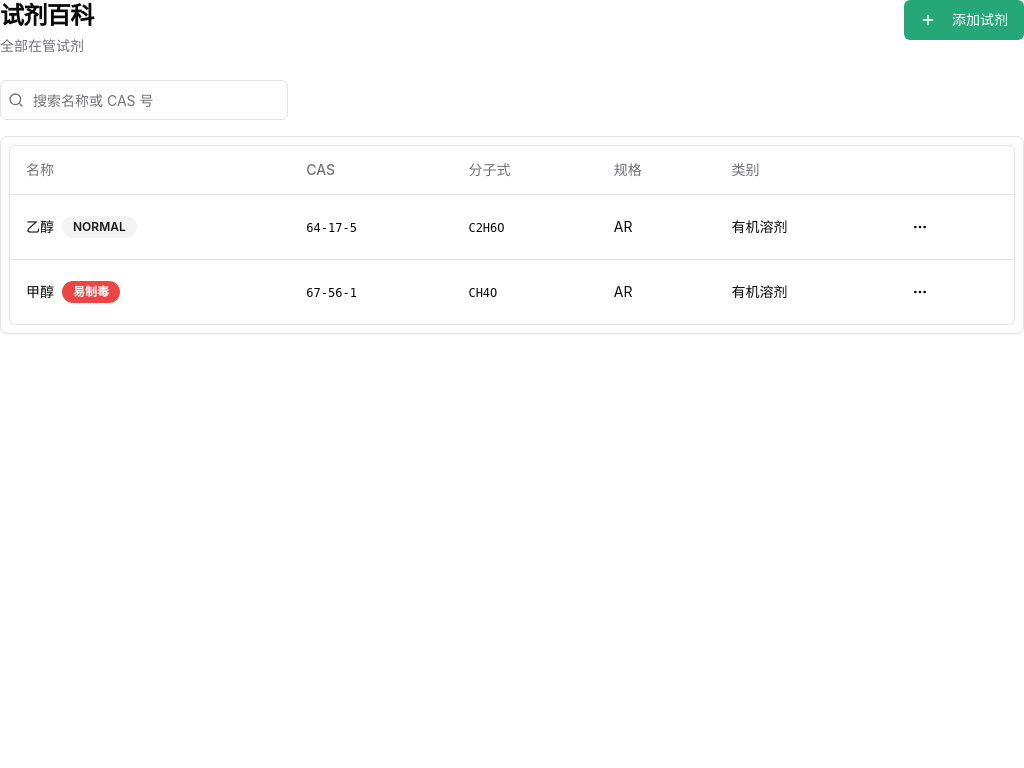
Test case: /reagents page › 编辑试剂 → PATCH /reagents/{id} body 含改动字段 + dialog 关闭
Expected: the text "乙醇" is shown, [26,216,54,236]
Click the button with test id "reagents-row-r1-actions".
click(920, 226)  # box [904,210,936,242]
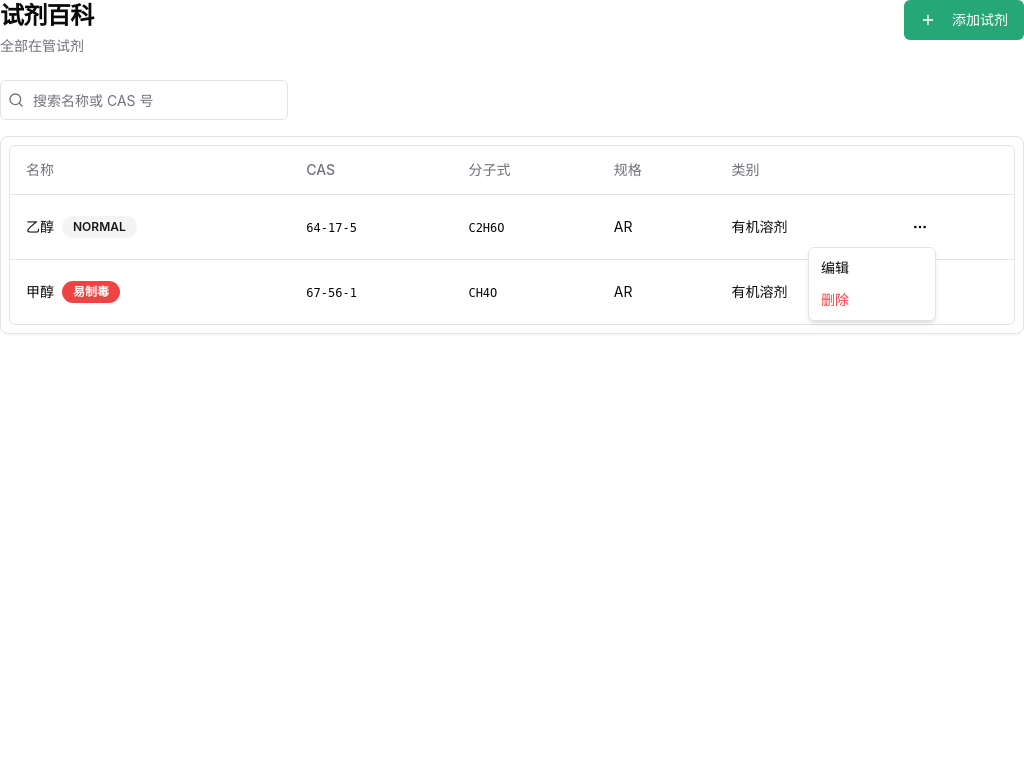
Click the menu item with test id "reagents-row-r1-edit".
click(835, 268)  # box [821,259,849,276]
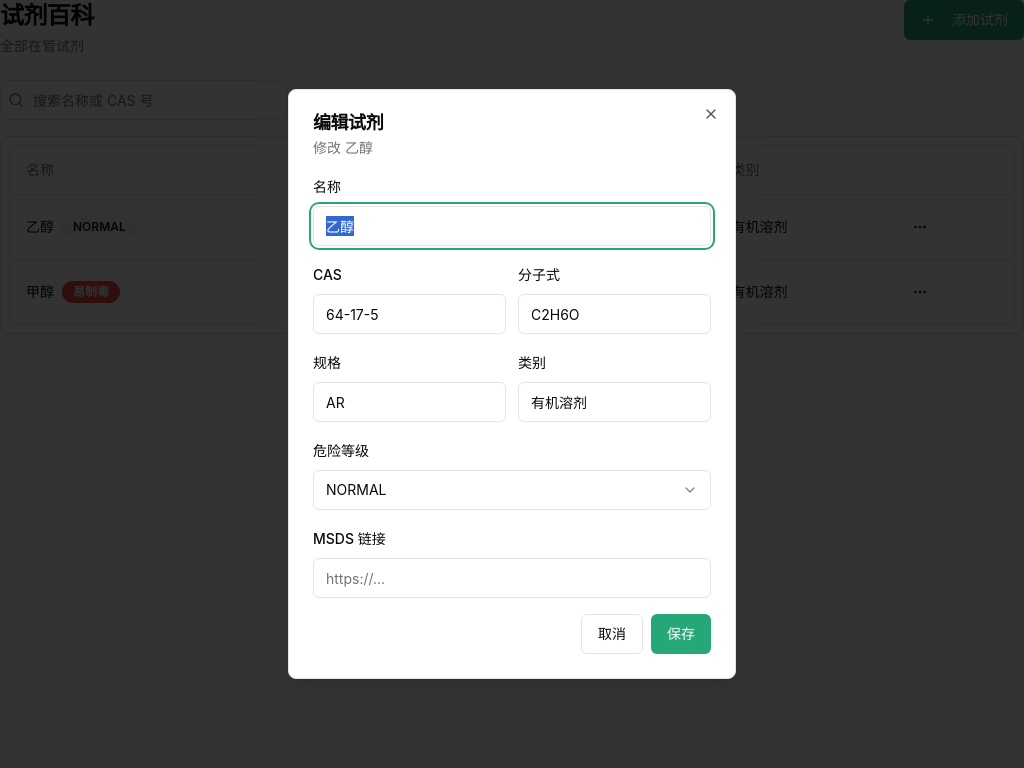
Replace the text in the field with test id "reagents-edit-name" with "无水乙醇" at (512, 226), box [313,206,711,246]
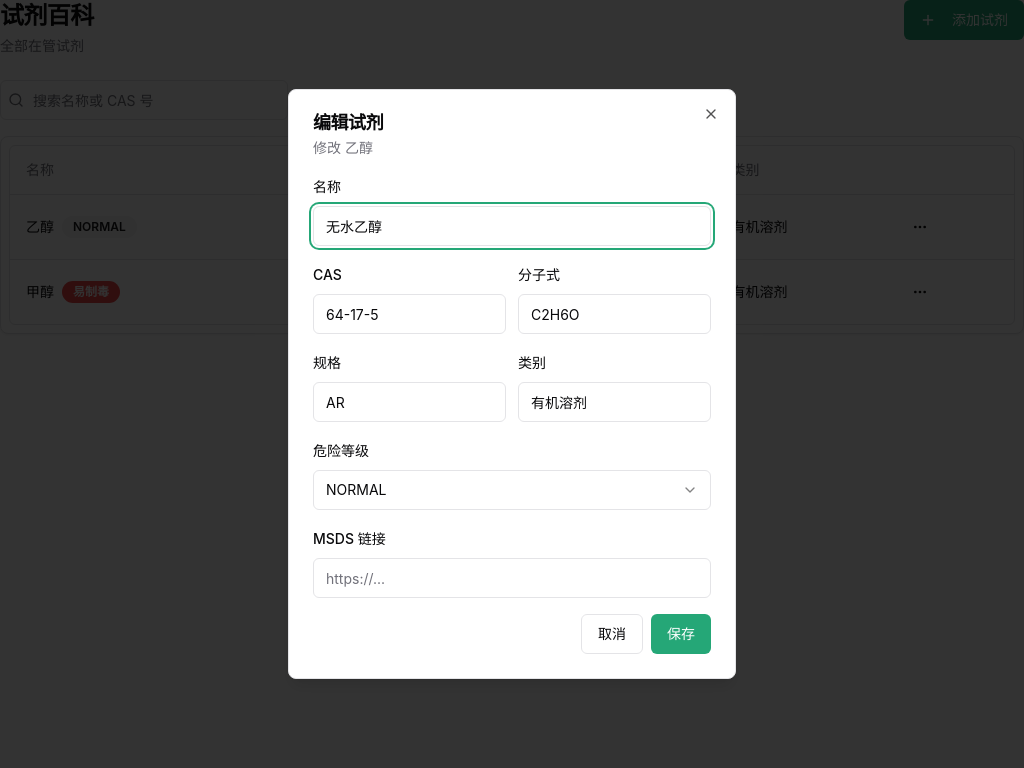
Click the button with test id "reagents-edit-submit".
click(681, 634)  # box [651,614,711,654]
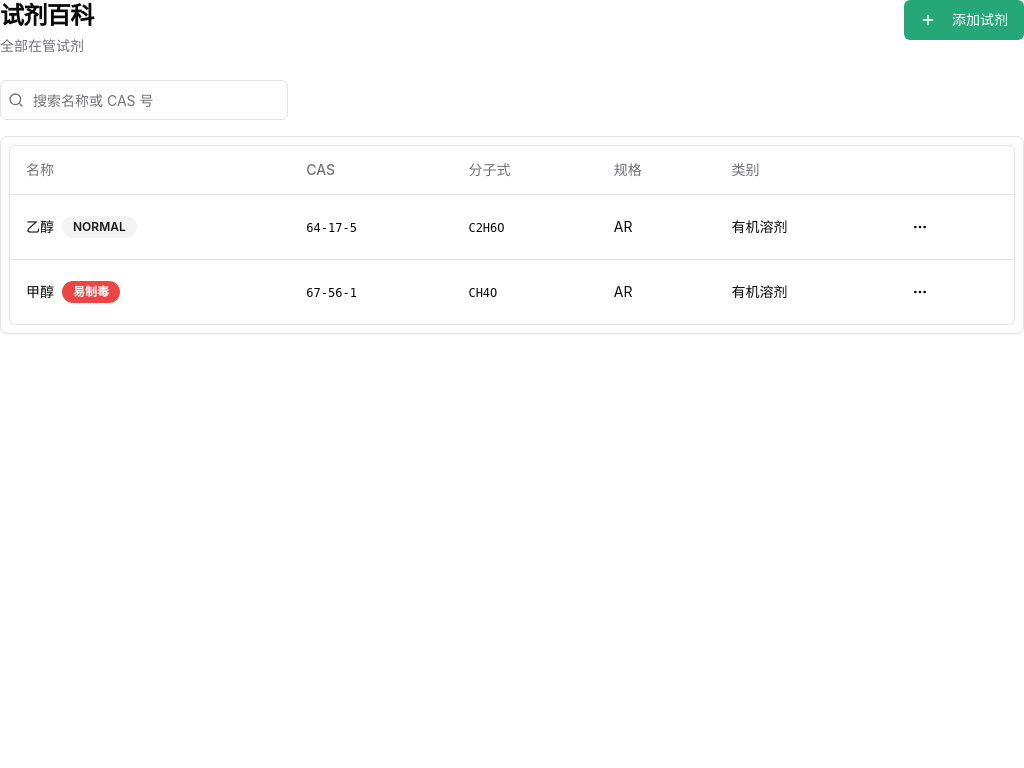
Expected: the text "NORMAL" is shown, [62,216,137,238]
Now the field with test id "reagents-edit-name" is gone
